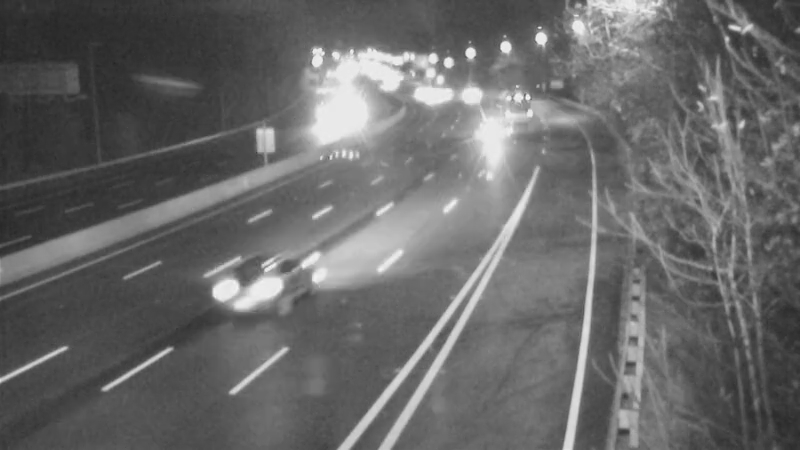vehicle: (211, 249, 291, 329), (358, 60, 408, 110), (423, 67, 473, 117), (446, 69, 496, 119), (490, 82, 540, 132), (477, 108, 527, 158), (299, 98, 349, 148)
